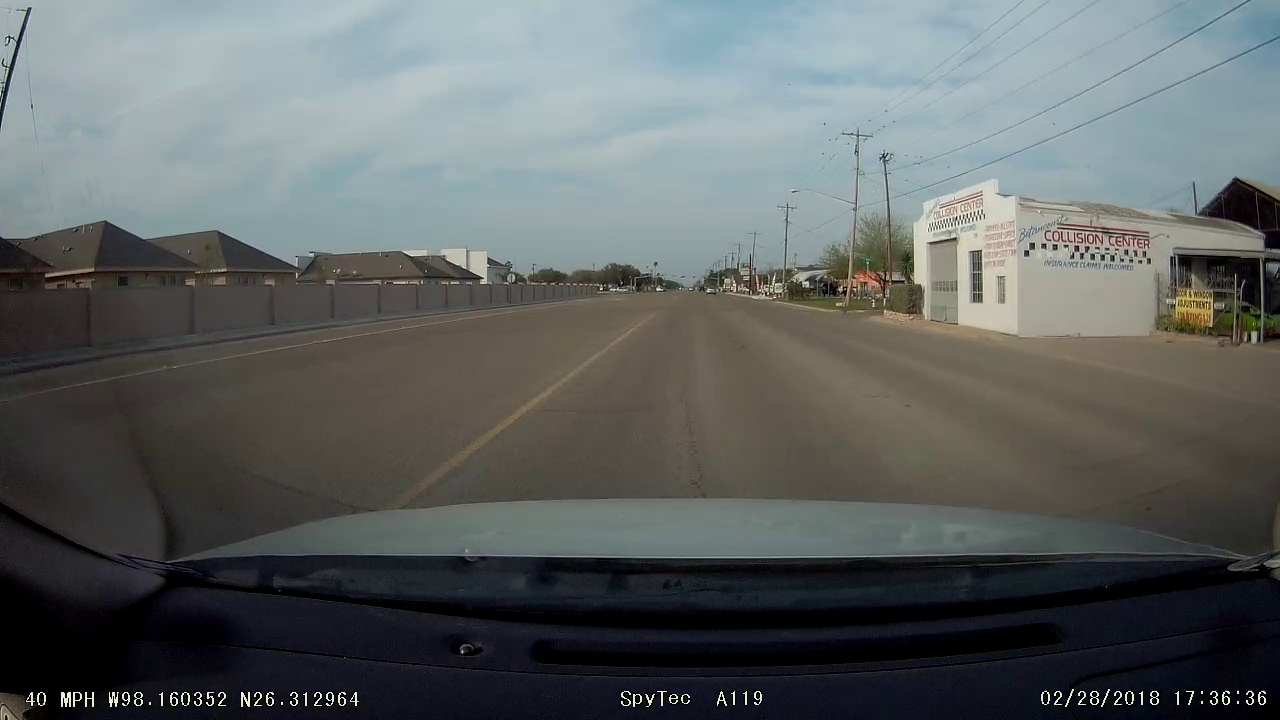blurredLine: (974, 386, 1217, 468), (745, 346, 872, 468)
crack: (672, 365, 737, 485)
